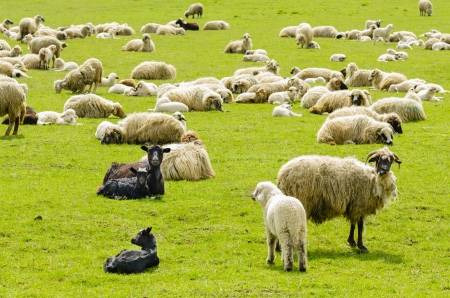sheep: (281, 146, 421, 254), (248, 179, 318, 276), (107, 145, 171, 207), (102, 226, 166, 277), (313, 112, 396, 149), (165, 139, 216, 177), (67, 91, 127, 122), (171, 85, 226, 114), (381, 89, 428, 122), (130, 59, 178, 80), (37, 108, 80, 131), (51, 68, 90, 93), (319, 88, 367, 107), (368, 67, 406, 90), (121, 33, 158, 53), (268, 87, 302, 106), (224, 33, 254, 54), (180, 1, 208, 21), (295, 21, 315, 49), (38, 43, 60, 68), (17, 13, 43, 32), (65, 24, 92, 40), (157, 24, 185, 38), (416, 1, 436, 18), (203, 19, 229, 31)
